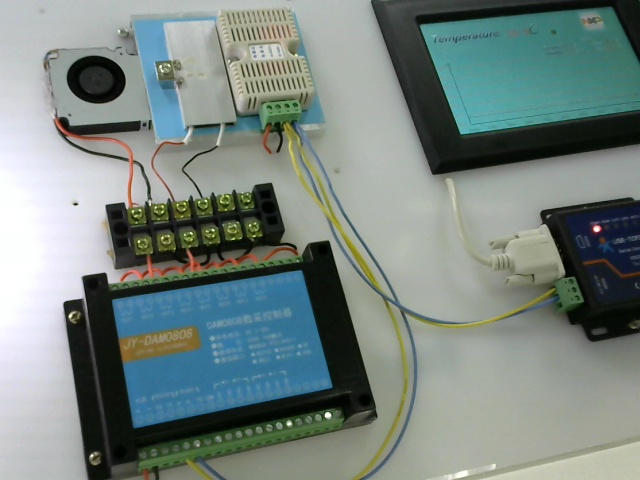fan: (44, 41, 146, 136)
heater: (161, 20, 233, 135)
relay: (59, 248, 397, 480)
termperature: (218, 5, 328, 113)
